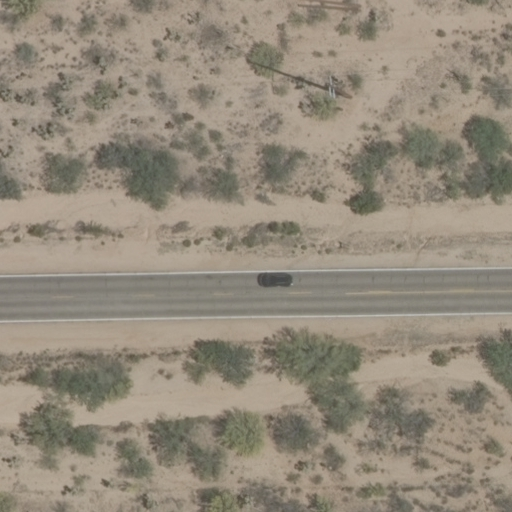DT: (320, 65, 360, 103)
